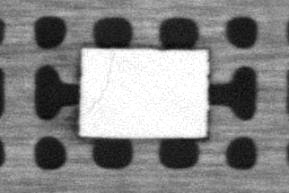DIE_CRACK: (85, 50, 115, 116)
